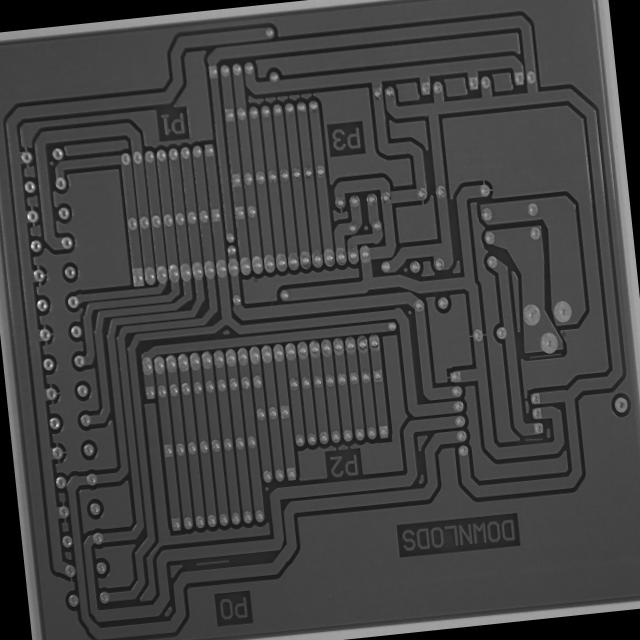spurious_copper: (192, 554, 232, 570), (525, 348, 563, 361), (522, 434, 544, 444)
